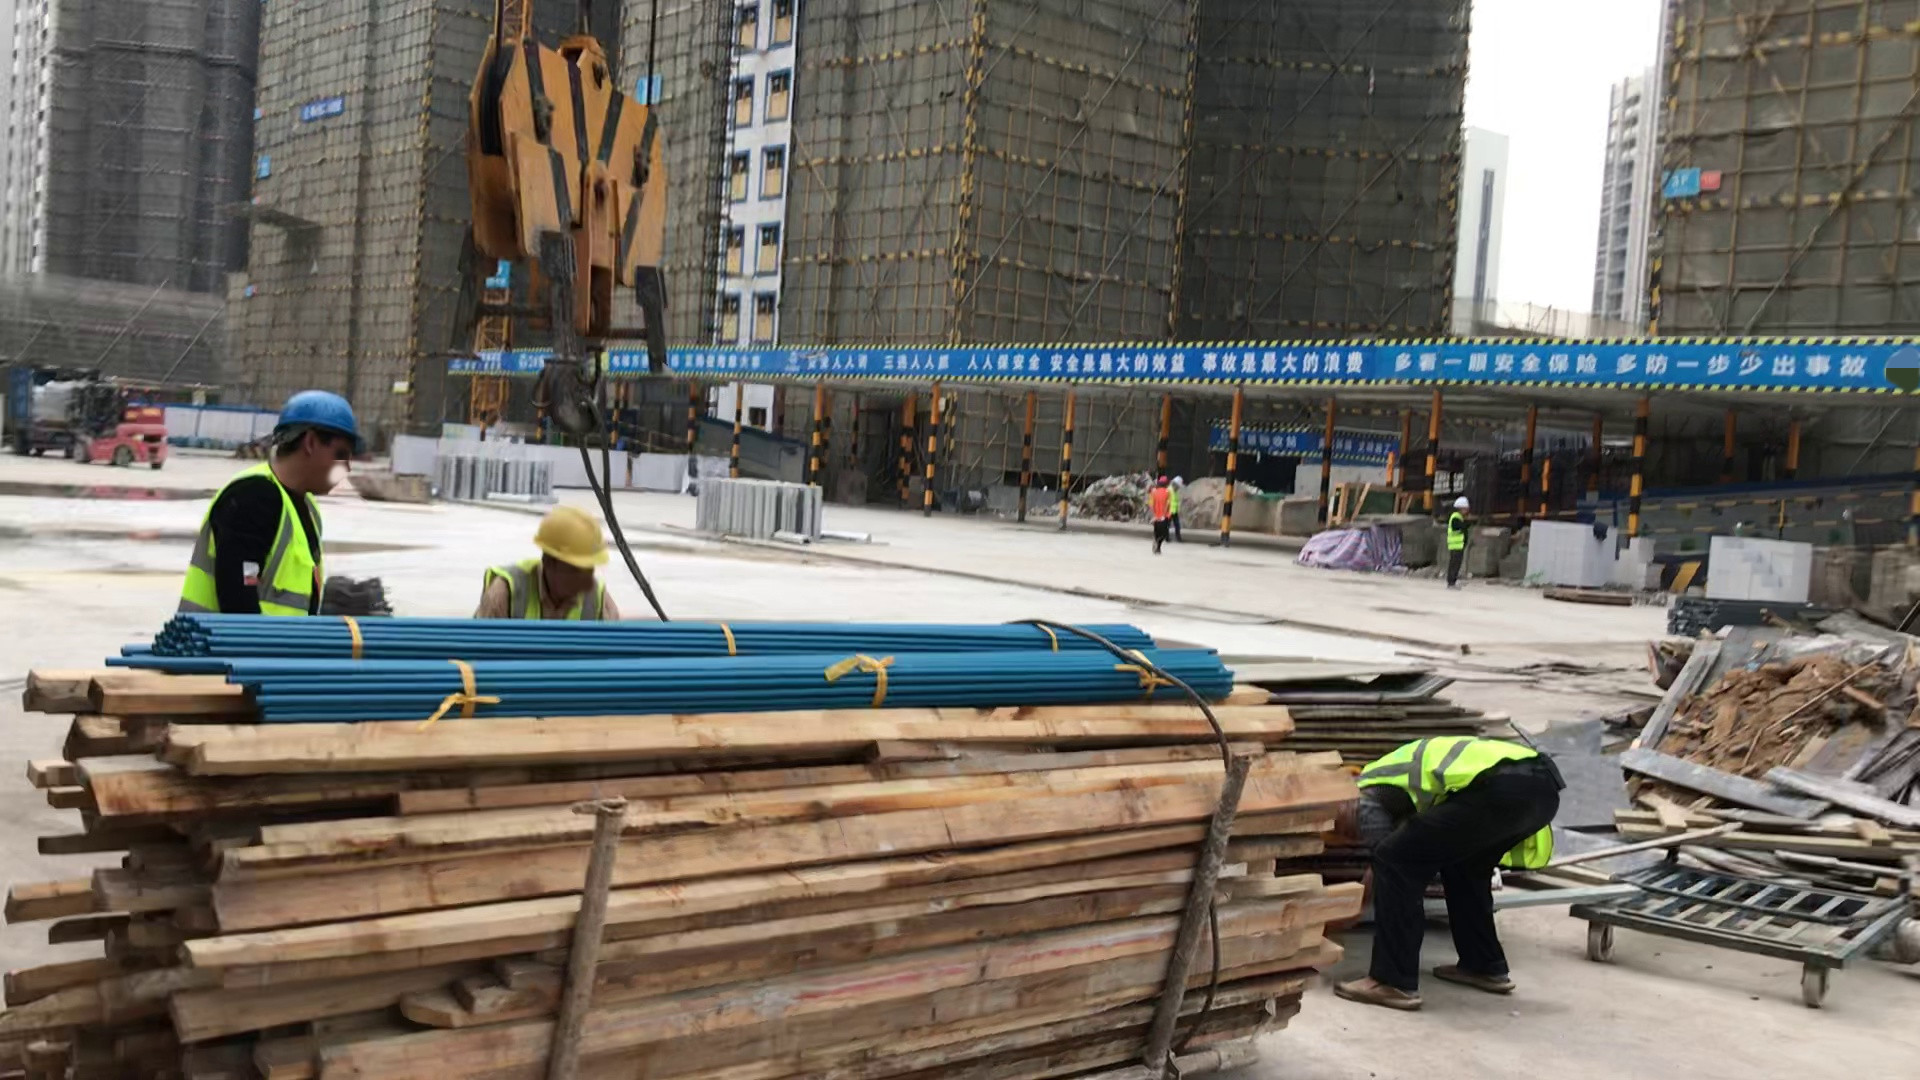board: (1525, 608, 1920, 893), (1226, 630, 1556, 797)
brick: (371, 430, 722, 494), (1513, 499, 1664, 593), (1690, 523, 1823, 615)
fence: (1518, 477, 1920, 561)
helmet: (259, 373, 373, 460), (523, 493, 623, 576), (1452, 494, 1473, 516), (1171, 475, 1187, 490), (1153, 473, 1170, 487)
hook: (410, 18, 761, 447)
hopper: (344, 466, 439, 509)
person: (1321, 711, 1583, 1034), (171, 356, 398, 651), (465, 473, 638, 642), (1441, 490, 1479, 592), (1145, 471, 1177, 559), (1169, 472, 1189, 544)
slogan: (433, 326, 1920, 407), (1210, 416, 1408, 484), (1638, 161, 1729, 218), (292, 89, 352, 134), (629, 72, 672, 123), (476, 250, 515, 303), (244, 145, 280, 188), (242, 101, 267, 127)
vest: (174, 457, 345, 628), (1349, 714, 1549, 824), (480, 543, 634, 628), (1443, 505, 1468, 551), (1148, 487, 1171, 523), (1168, 485, 1183, 519)
wood: (4, 588, 1379, 1080), (1813, 537, 1908, 613)
